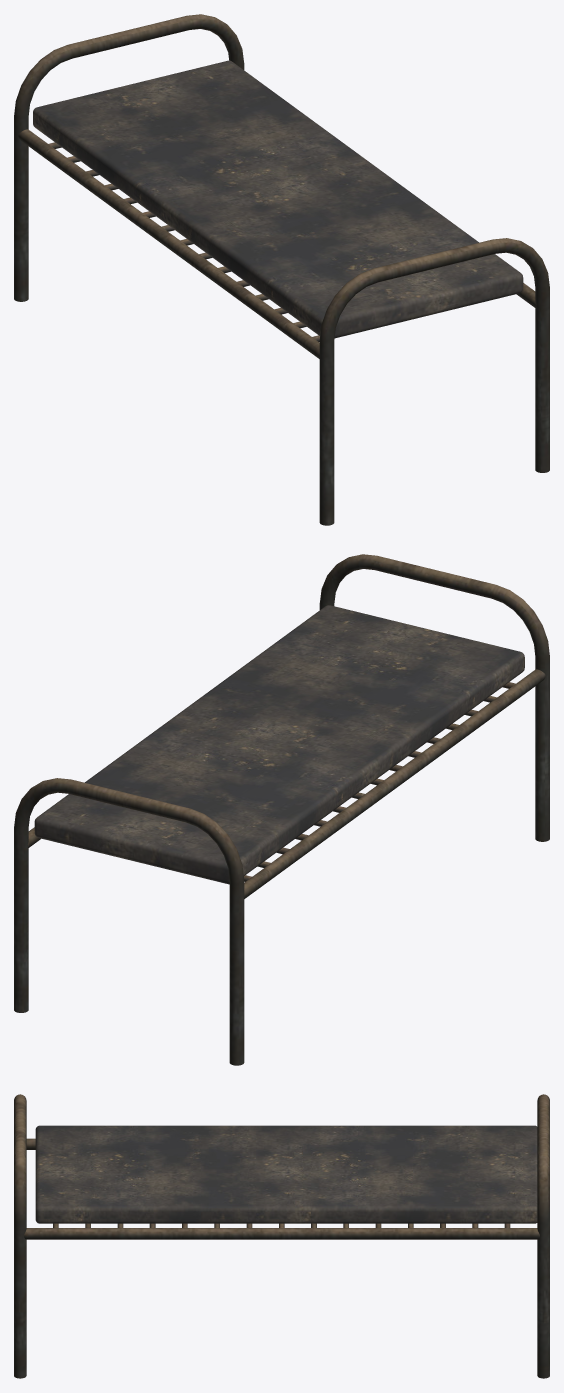
File: Bedframe_Mattress.fbx
3 renders of one model, top to bottom at view 1: azimuth 30°, elevation 25°; view 2: azimuth 150°, elevation 25°; view 3: azimuth 270°, elevation 25°, orthographic. The views are drawn at different scales.
Parts seen in each view (by area): view 1: Mattress_Mattress_0; view 2: Mattress_Mattress_0; view 3: Mattress_Mattress_0.
Part boxes in pixels (bbox=[...]): Mattress_Mattress_0: bbox=[14, 14, 549, 525]; Mattress_Mattress_0: bbox=[14, 554, 549, 1065]; Mattress_Mattress_0: bbox=[14, 1094, 549, 1378].
Size of the model in its own units: 99.96 by 101 by 237.
Materials: 2 (2 with a texture image).
